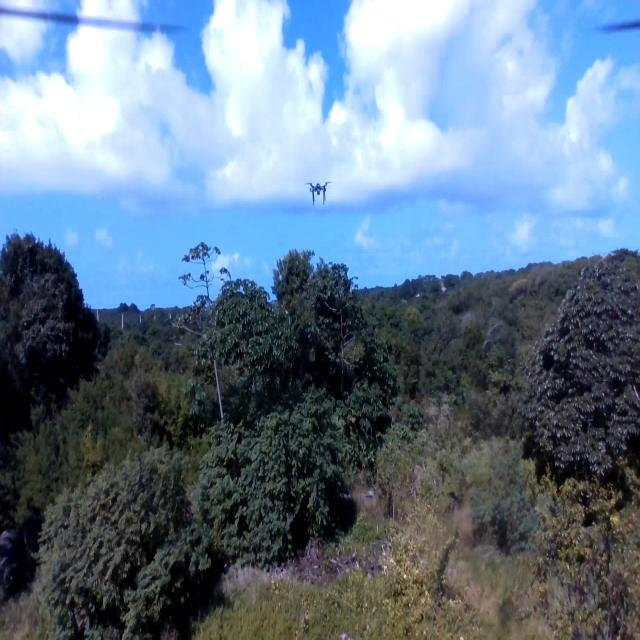-uav-: (302, 171, 336, 211)
